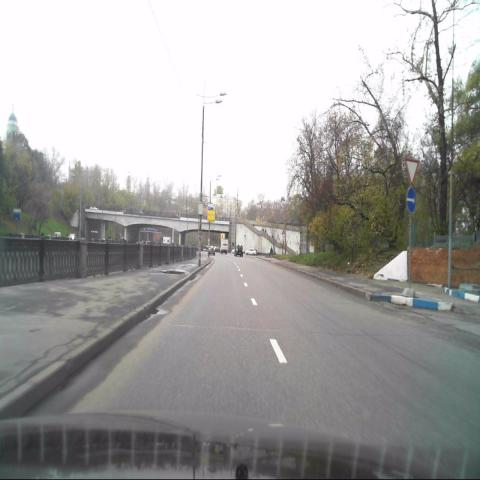4_1_2_1: (406, 185, 417, 214)
